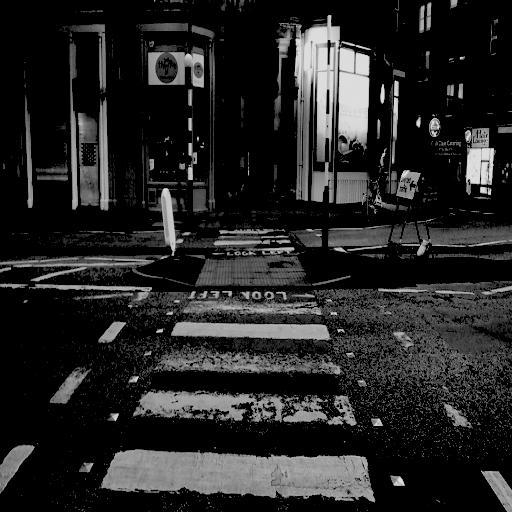crosswalk: (97, 388, 376, 506), (170, 298, 332, 346)
